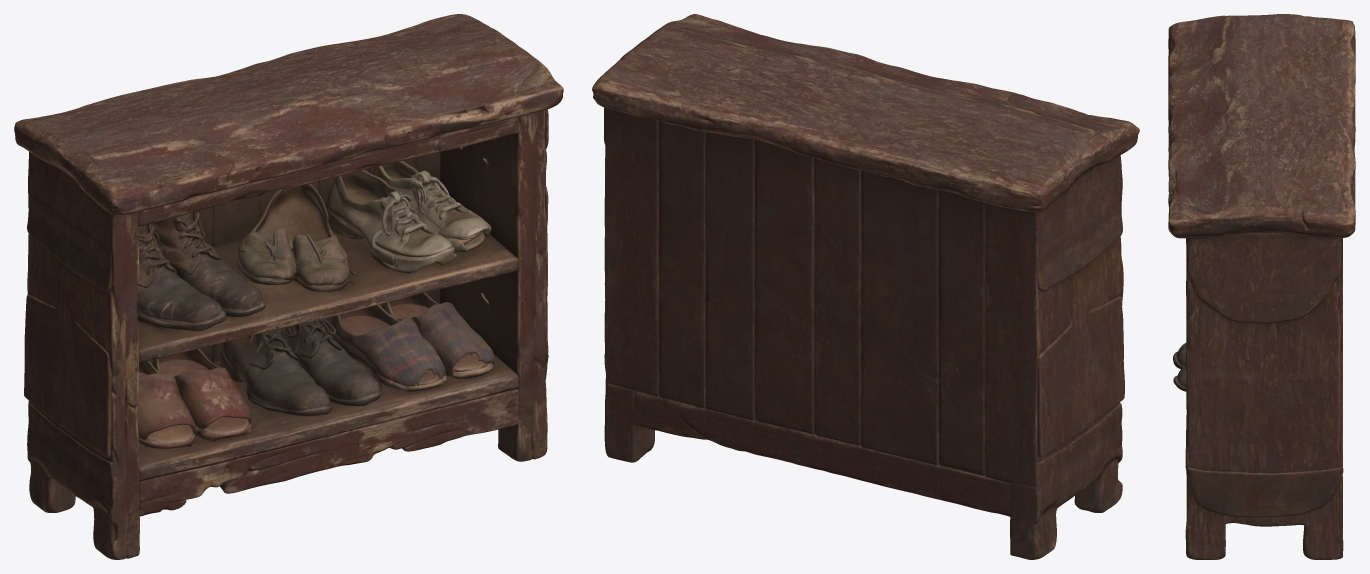
The model's file is ShoeCabinet.glb.
The picture shows the model from 3 angles, left to right: view 1: azimuth 30°, elevation 25°; view 2: azimuth 150°, elevation 25°; view 3: azimuth 270°, elevation 25°; orthographic projection. The views are drawn at different scales.
Visible parts, largest first — view 1: tripo_node_90a1cb94-bff4-4560-9cfd-8dc4cdd2b742; view 2: tripo_node_90a1cb94-bff4-4560-9cfd-8dc4cdd2b742; view 3: tripo_node_90a1cb94-bff4-4560-9cfd-8dc4cdd2b742.
Part boxes in pixels (box(x1,y1,x2,y2)): tripo_node_90a1cb94-bff4-4560-9cfd-8dc4cdd2b742: box(14, 14, 563, 559); tripo_node_90a1cb94-bff4-4560-9cfd-8dc4cdd2b742: box(592, 14, 1139, 559); tripo_node_90a1cb94-bff4-4560-9cfd-8dc4cdd2b742: box(1168, 14, 1355, 559).
Size of the model in its own units: 1 by 0.8197 by 0.3912.
Materials: 1 (1 with a texture image).
